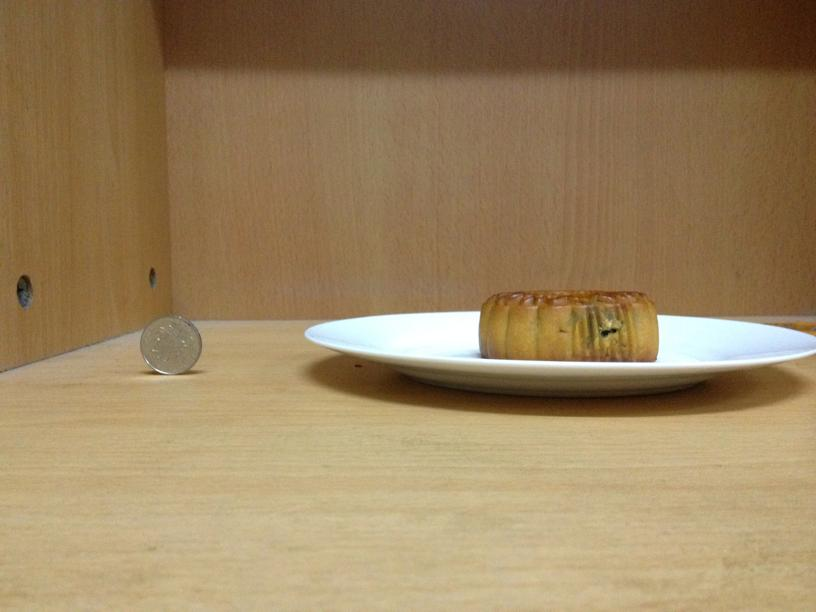coin: (139, 313, 201, 375)
mooncake: (477, 290, 659, 361)
